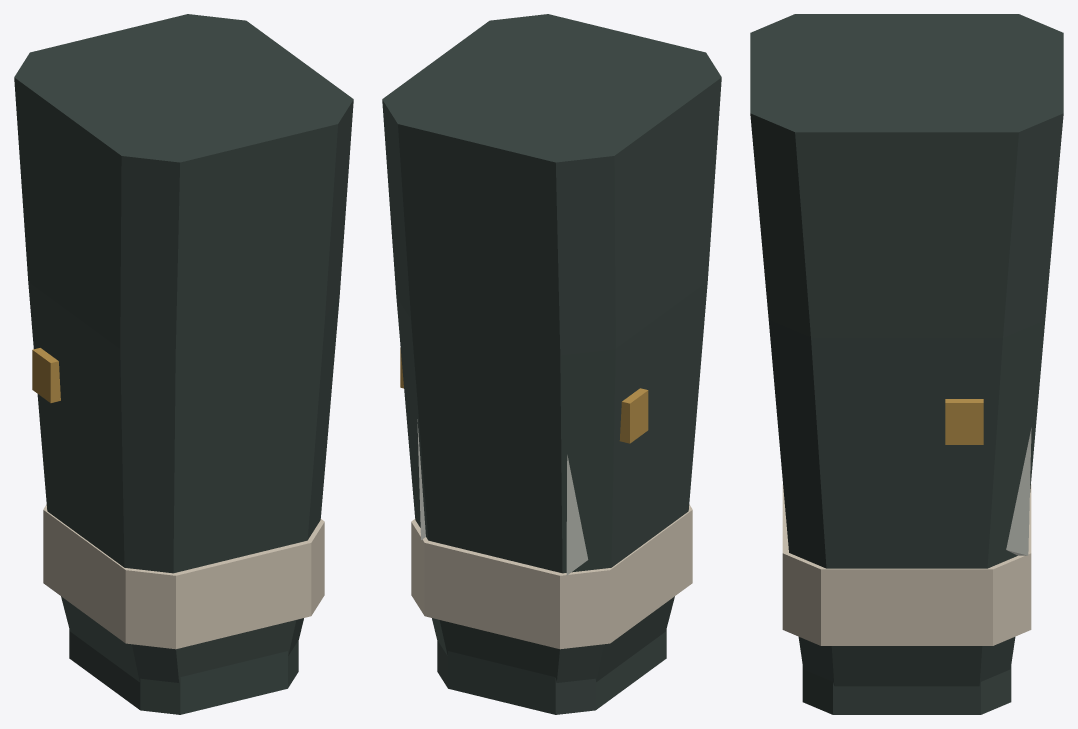
The model's file is visual-far.glb.
3 views of the same model, side by side, from view 1: azimuth 30°, elevation 25°; view 2: azimuth 150°, elevation 25°; view 3: azimuth 270°, elevation 25° (orthographic). The views are drawn at different scales.
Parts seen in each view (by area): view 1: 现有程序大腿 · 同用途配色; view 2: 现有程序大腿 · 同用途配色; view 3: 现有程序大腿 · 同用途配色.
Part boxes in pixels (x1=…): 现有程序大腿 · 同用途配色: x1=14, y1=14, x2=353, y2=714; 现有程序大腿 · 同用途配色: x1=382, y1=14, x2=721, y2=714; 现有程序大腿 · 同用途配色: x1=750, y1=14, x2=1063, y2=714.
Bounding box in the file's own units: 0.182 × 0.432 × 0.204.
4 materials, 4 textured.
